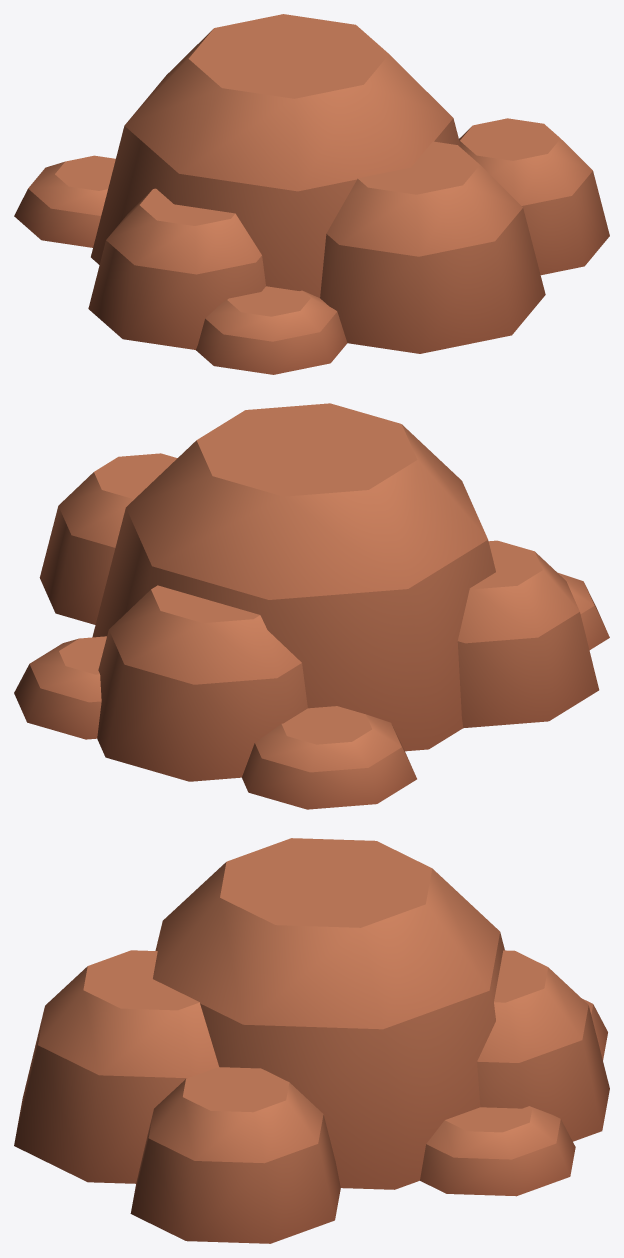
File: cargo-pile-b.glb
3 views of the same model, one above another, from view 1: azimuth 30°, elevation 25°; view 2: azimuth 150°, elevation 25°; view 3: azimuth 270°, elevation 25° (orthographic). The views are drawn at different scales.
Visible parts, largest first — view 1: cargo-pile-b; view 2: cargo-pile-b; view 3: cargo-pile-b.
Part boxes in pixels (x1,y1,x2,y2): cargo-pile-b: (14, 14, 609, 374); cargo-pile-b: (14, 403, 609, 809); cargo-pile-b: (14, 838, 609, 1243).
Size of the model in its own units: 3.05 by 1.2 by 2.97.
